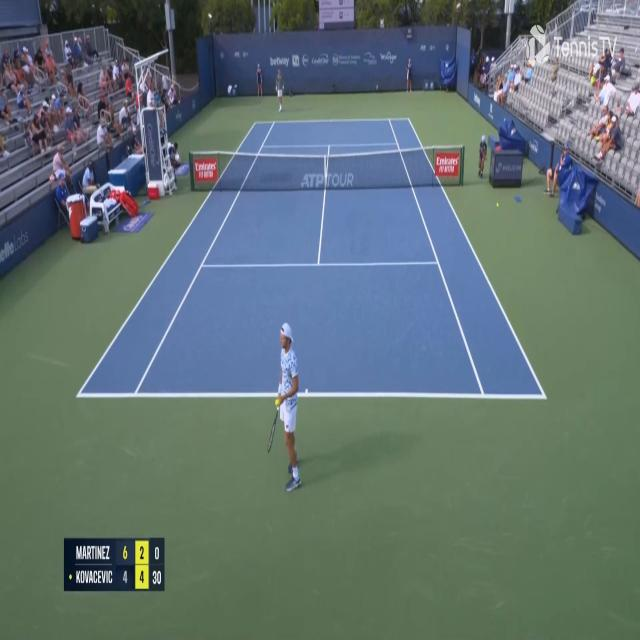tennis-player: (267, 316, 306, 495), (274, 67, 286, 114)
